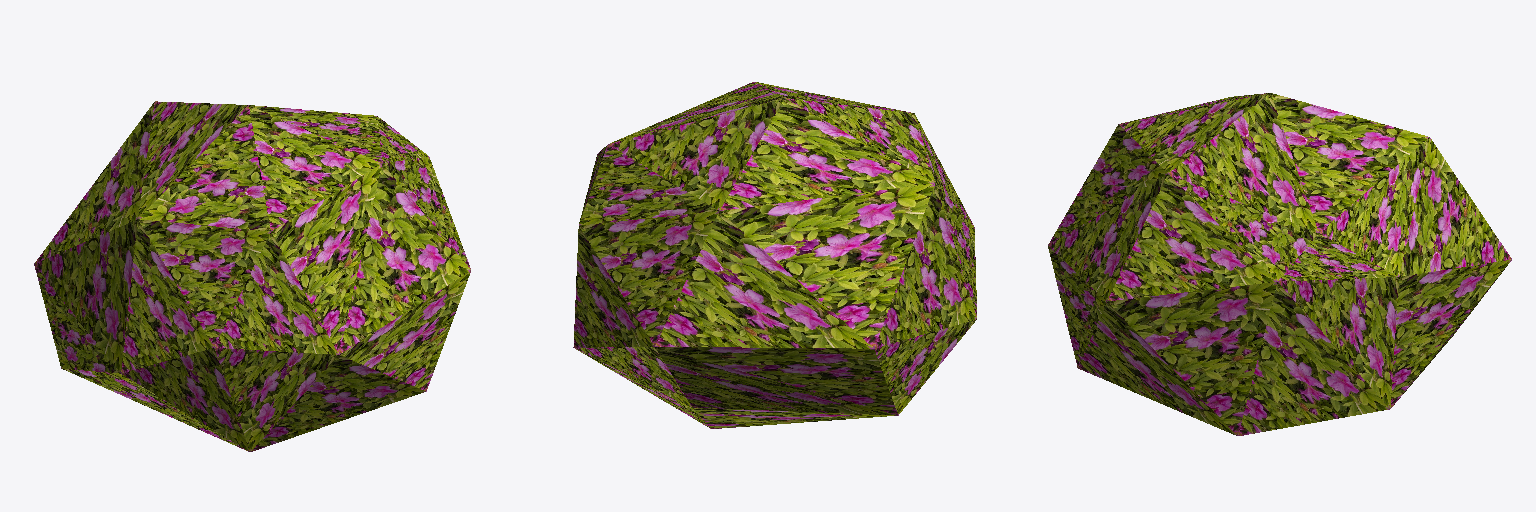
3 views of the same model, side by side, from view 1: azimuth 30°, elevation 25°; view 2: azimuth 150°, elevation 25°; view 3: azimuth 270°, elevation 25° (orthographic).
Parts seen in each view (by area): view 1: Bush01.001_Icosphere.001; view 2: Bush01.001_Icosphere.001; view 3: Bush01.001_Icosphere.001.
Part boxes in pixels (bbox=[...]): Bush01.001_Icosphere.001: bbox=[34, 101, 470, 451]; Bush01.001_Icosphere.001: bbox=[573, 82, 976, 428]; Bush01.001_Icosphere.001: bbox=[1048, 93, 1511, 435].
Bounding box in the file's own units: 1.07 × 0.9311 × 1.25.
1 materials, 1 textured.